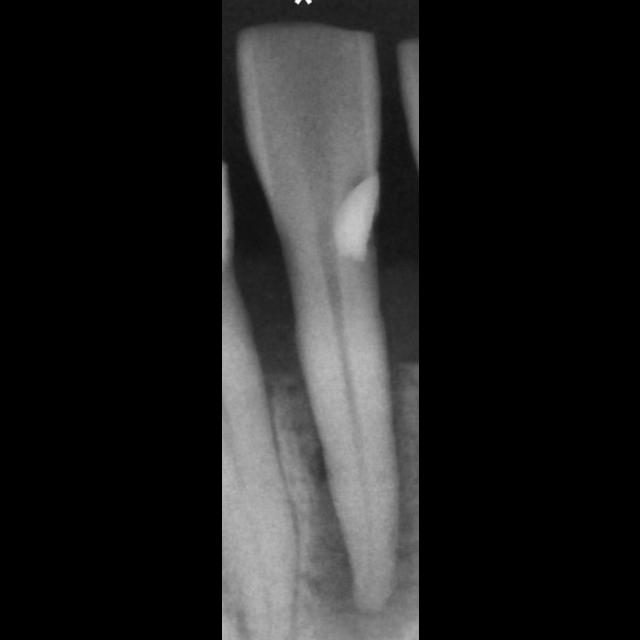tooth: (236, 20, 400, 614)
